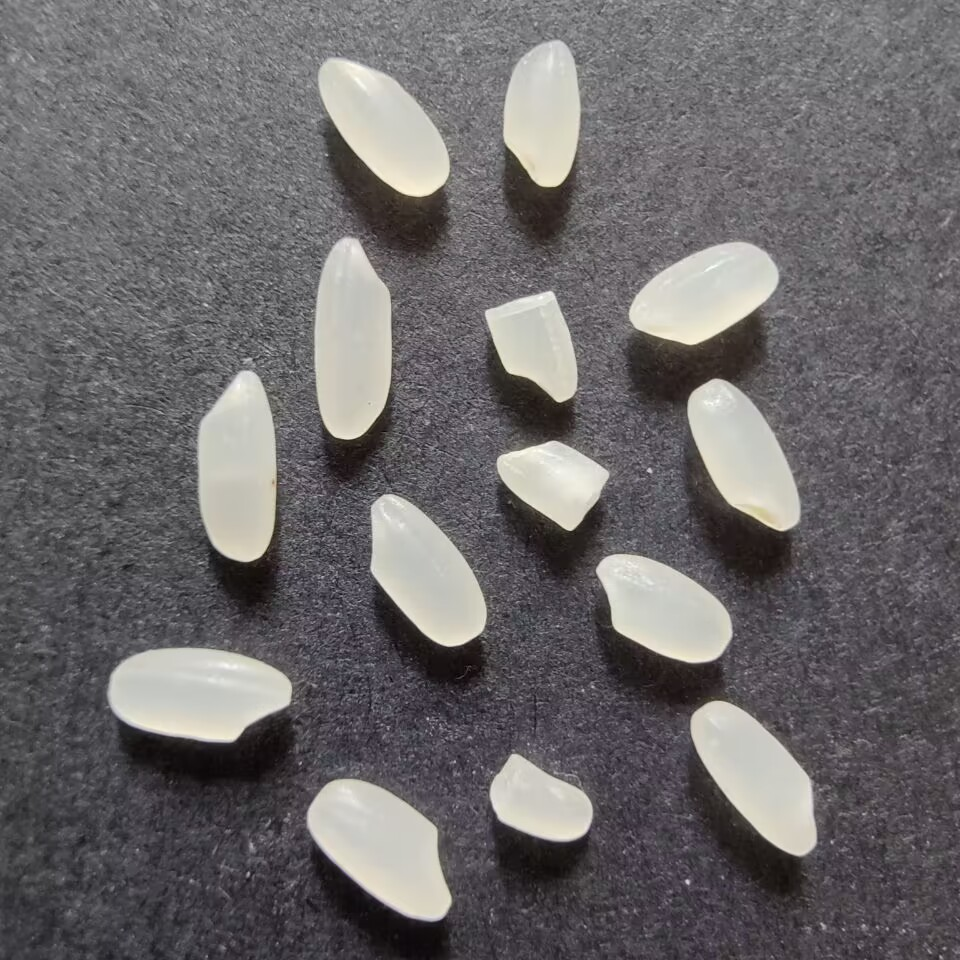broken: (477, 287, 583, 406), (489, 438, 614, 537), (482, 748, 599, 847)
rice: (300, 777, 457, 926), (686, 699, 823, 863), (101, 640, 299, 748), (314, 52, 458, 199), (365, 488, 492, 653), (682, 378, 808, 536), (309, 233, 398, 446), (190, 364, 284, 565), (622, 238, 785, 349), (589, 552, 739, 667), (497, 39, 586, 193)
